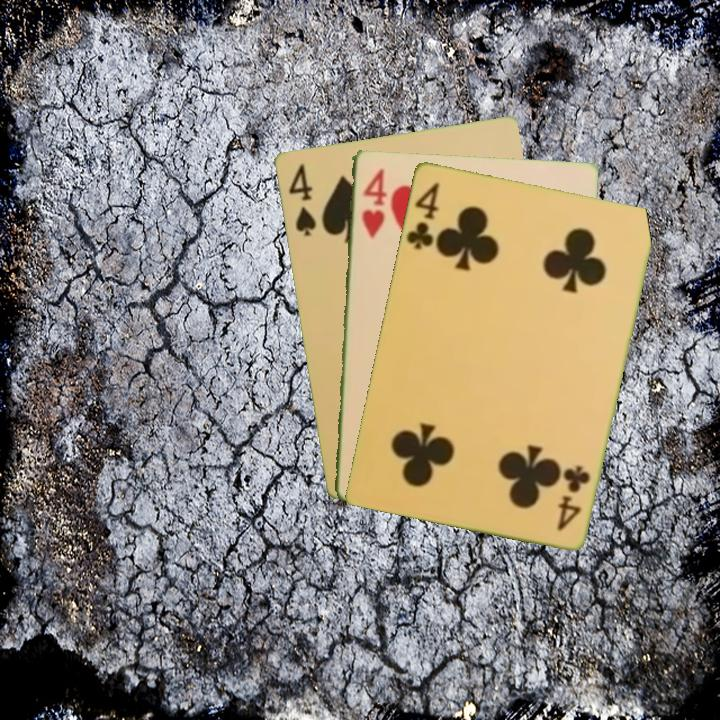4c: (402, 178, 442, 252), (553, 461, 593, 533)
4h: (358, 164, 387, 240)
4s: (284, 160, 319, 239)
